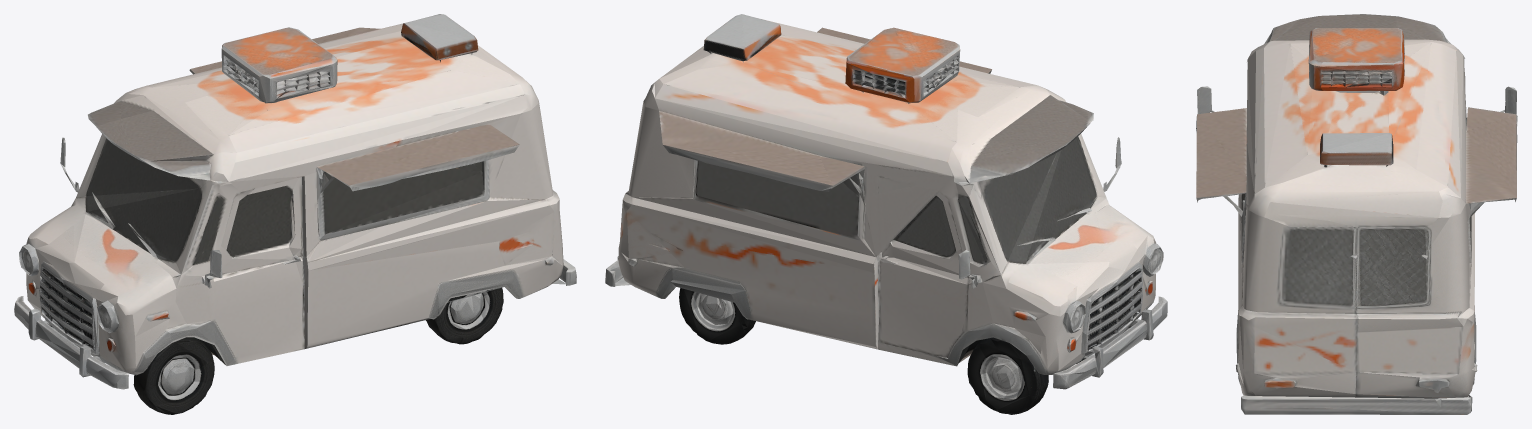
3 views of the same model, side by side, from view 1: azimuth 30°, elevation 25°; view 2: azimuth 150°, elevation 25°; view 3: azimuth 270°, elevation 25° (orthographic).
Size of the model in its own units: 1.9 by 1.12 by 1.12.
Materials: 1 (1 with a texture image).
